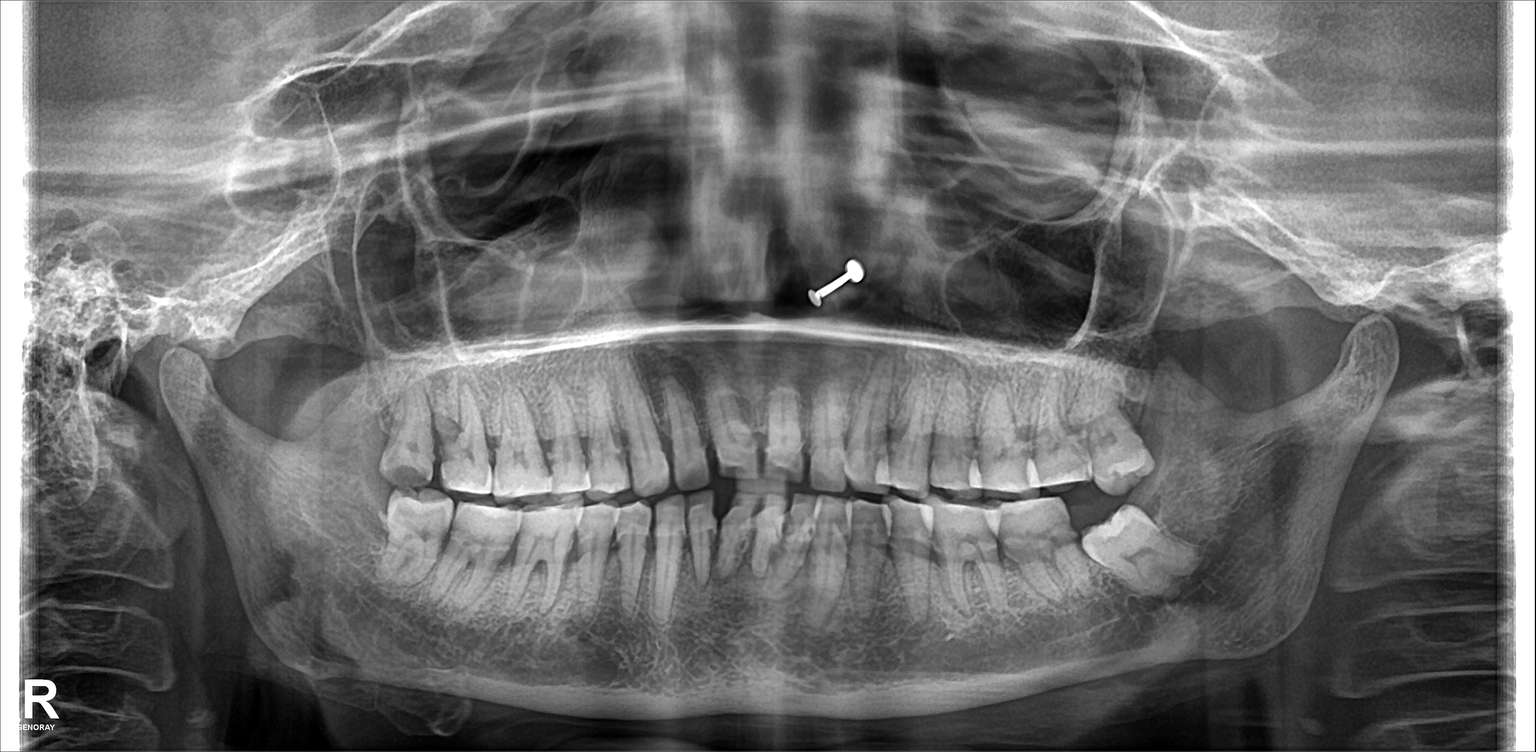Dental Caries: (378, 463, 431, 490)
Impacted Third Molar: (1093, 517, 1201, 587)
